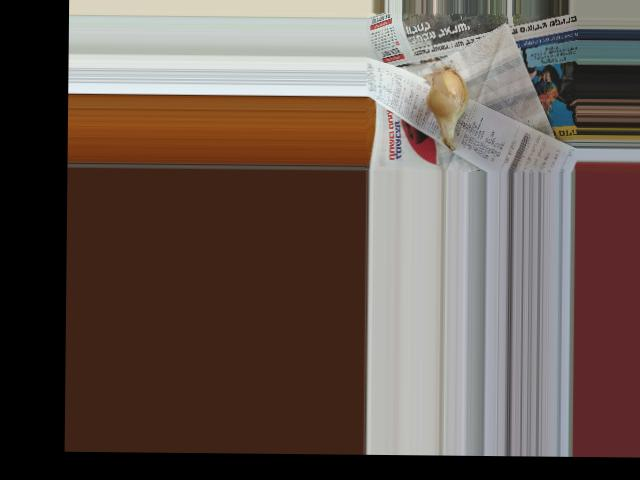onion: (427, 62, 472, 128)
